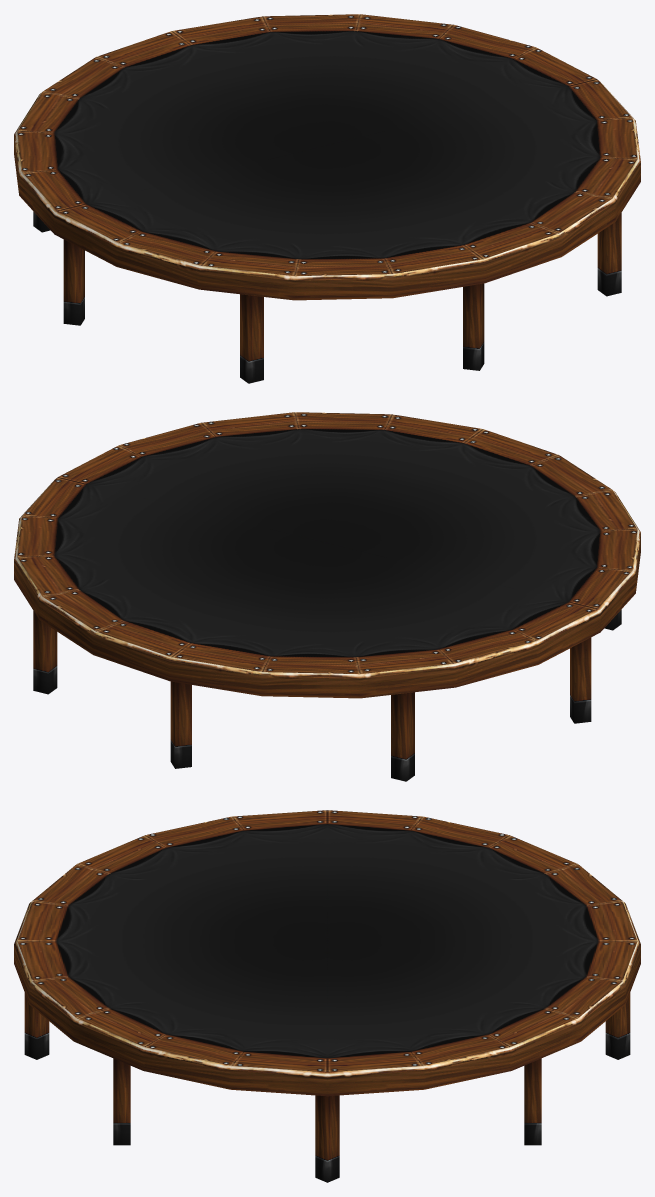
Rendered from trampoline.fbx.
The picture shows the model from 3 angles, top to bottom: view 1: azimuth 30°, elevation 25°; view 2: azimuth 150°, elevation 25°; view 3: azimuth 270°, elevation 25°; orthographic projection.
Parts seen in each view (by area): view 1: trampoline; view 2: trampoline; view 3: trampoline.
Boxes of the visible parts, x1=… form: trampoline: x1=14, y1=14, x2=640, y2=383; trampoline: x1=14, y1=412, x2=640, y2=781; trampoline: x1=14, y1=810, x2=640, y2=1182.
Bounding box in the file's own units: 50 × 10 × 50.
